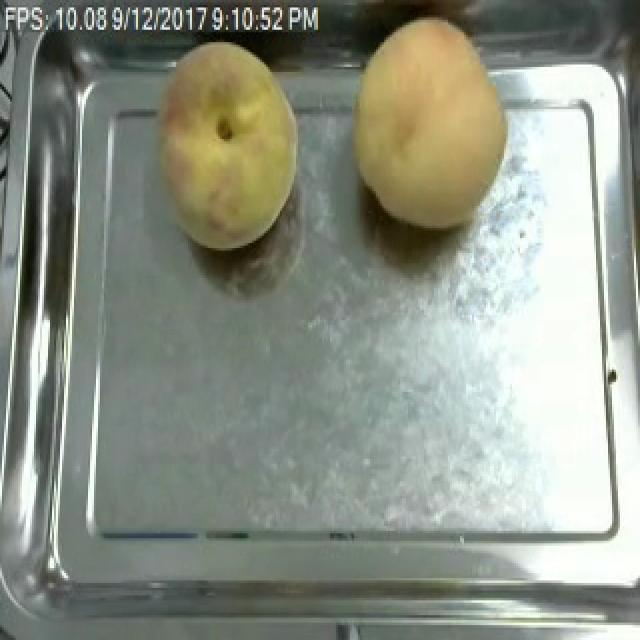Fruit: (340, 13, 520, 238), (142, 30, 310, 258)
